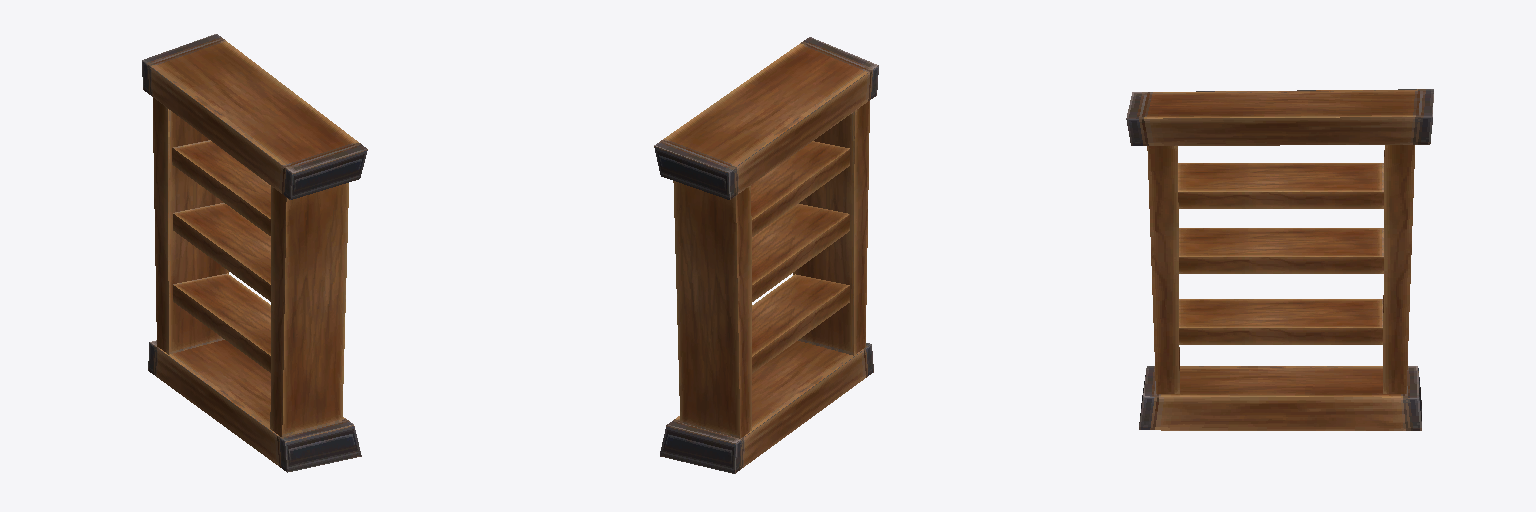
3 views of the same model, side by side, from view 1: azimuth 30°, elevation 25°; view 2: azimuth 150°, elevation 25°; view 3: azimuth 270°, elevation 25° (orthographic).
Visible parts, largest first — view 1: bookshelfdwarvensimple03.m2; view 2: bookshelfdwarvensimple03.m2; view 3: bookshelfdwarvensimple03.m2.
Part boxes in pixels (x1,y1,x2,y2): bookshelfdwarvensimple03.m2: (142,34,367,472); bookshelfdwarvensimple03.m2: (654,37,878,473); bookshelfdwarvensimple03.m2: (1126,89,1433,430).
Bounding box in the file's own units: 0.8642 × 3.48 × 3.08.
1 materials, 1 textured.